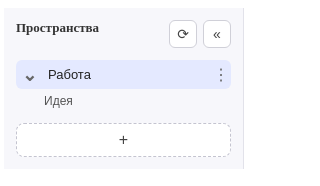
Scenario: WorkspacePanel — roots › toggles the root list via the chevron
Check: the button "Идея" is shown, box [36,89,231,113]
Click the button named "Свернуть корни пространства «Работа»".
click(26, 74)  # box [16,62,36,86]
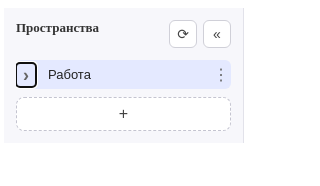
Check: the button "Идея" is gone
Click the button named "Развернуть корни пространства «Работа»".
click(26, 74)  # box [16,62,36,86]
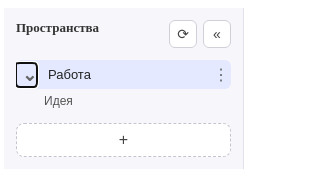
Check: the button "Идея" is shown, box [36,89,231,113]
